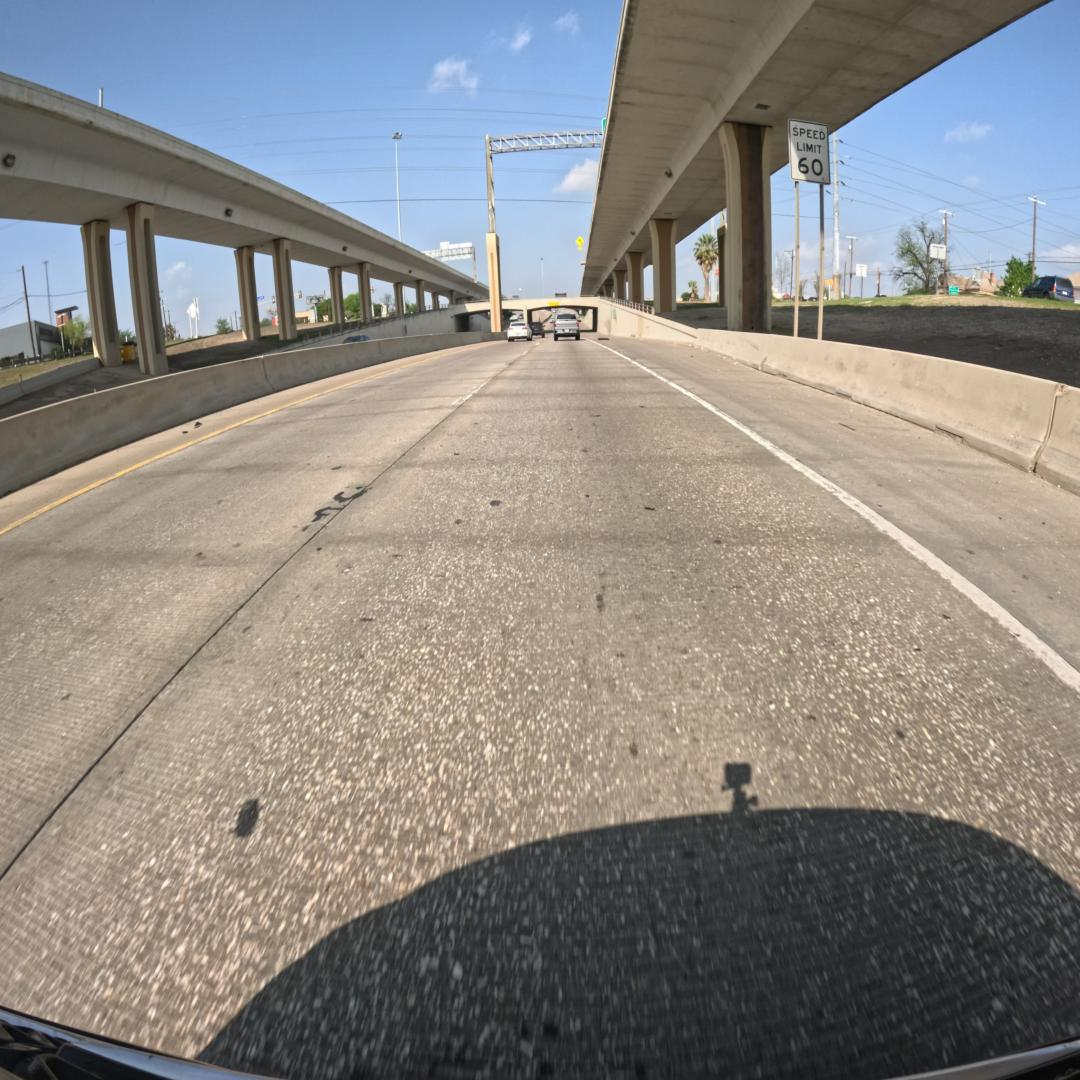lane0: (0, 342, 1080, 1080)
lane1: (0, 346, 509, 874)
